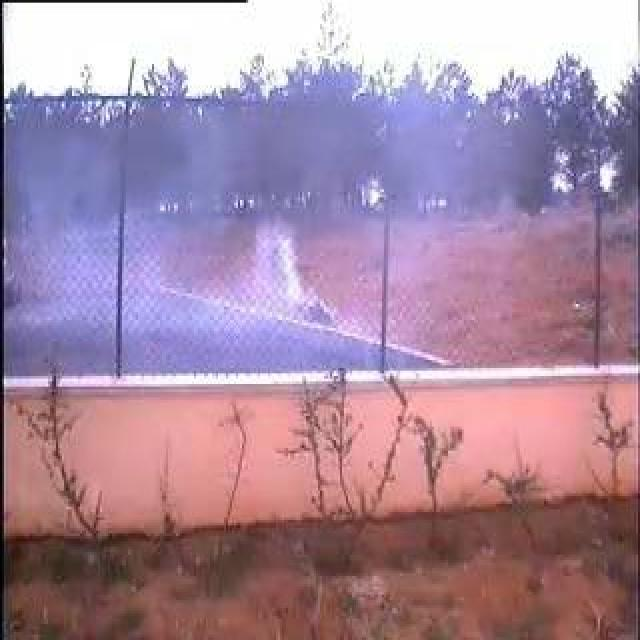Smoke: (119, 110, 395, 373)
